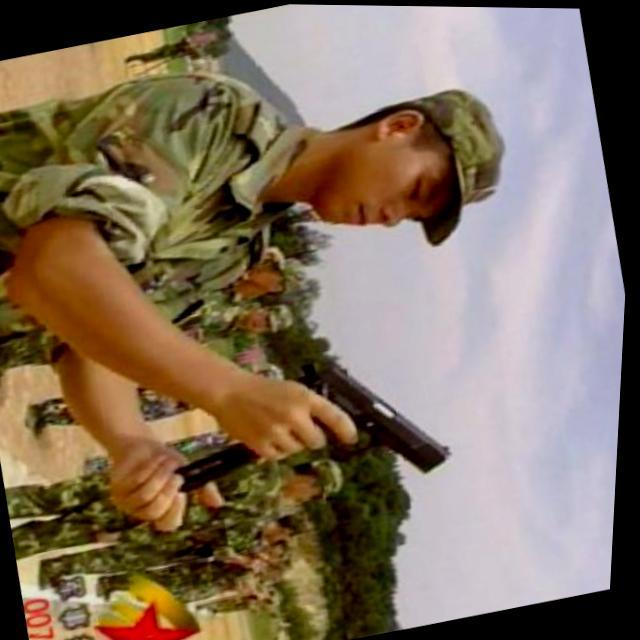gun: (230, 334, 467, 512)
